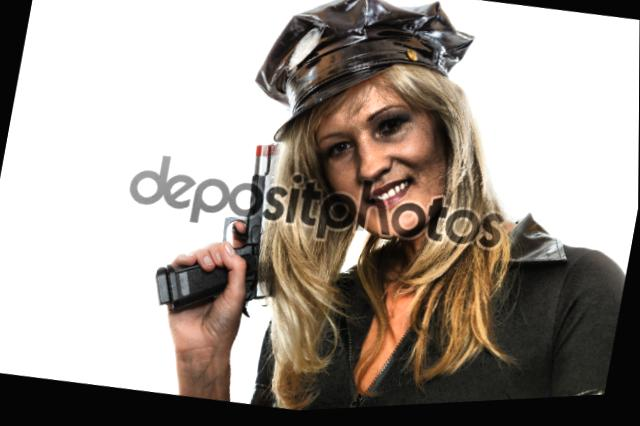pistol: (155, 117, 313, 339)
